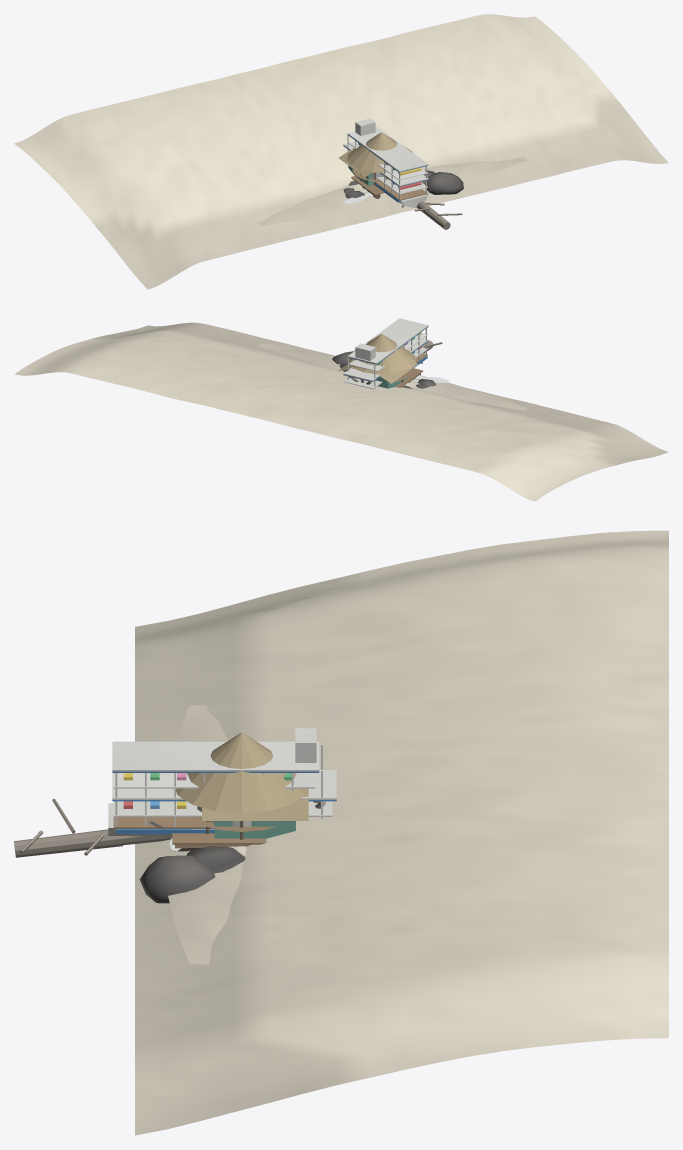
The model's file is praia_kit.glb.
3 views of the same model, one above another, from view 1: azimuth 30°, elevation 25°; view 2: azimuth 150°, elevation 25°; view 3: azimuth 270°, elevation 25° (orthographic). The views are drawn at different scales.
Visible parts, largest first — view 1: beach_strip, riverboat, sand_spit, lodge_hut, pedral, flutuante, fallen_tree; view 2: beach_strip, riverboat, sand_spit, lodge_hut, flutuante, pedral; view 3: beach_strip, riverboat, lodge_hut, sand_spit, pedral, flutuante, fallen_tree.
Part boxes in pixels (x1,y1,x2,y2): beach_strip: [14, 14, 668, 289]; riverboat: [343, 118, 428, 207]; sand_spit: [257, 157, 527, 225]; lodge_hut: [347, 132, 412, 185]; pedral: [343, 170, 463, 203]; flutuante: [338, 147, 422, 198]; fallen_tree: [401, 174, 462, 229]; beach_strip: [14, 322, 668, 501]; riverboat: [343, 318, 428, 389]; sand_spit: [257, 343, 527, 410]; lodge_hut: [347, 333, 415, 382]; flutuante: [338, 362, 423, 388]; pedral: [332, 351, 449, 388]; beach_strip: [135, 530, 668, 1135]; riverboat: [108, 728, 336, 836]; lodge_hut: [176, 732, 303, 839]; sand_spit: [162, 705, 246, 964]; pedral: [139, 838, 245, 903]; flutuante: [172, 788, 308, 851]; fallen_tree: [14, 798, 325, 857].
Size of the model in its own units: 90 by 12.36 by 49.07.
